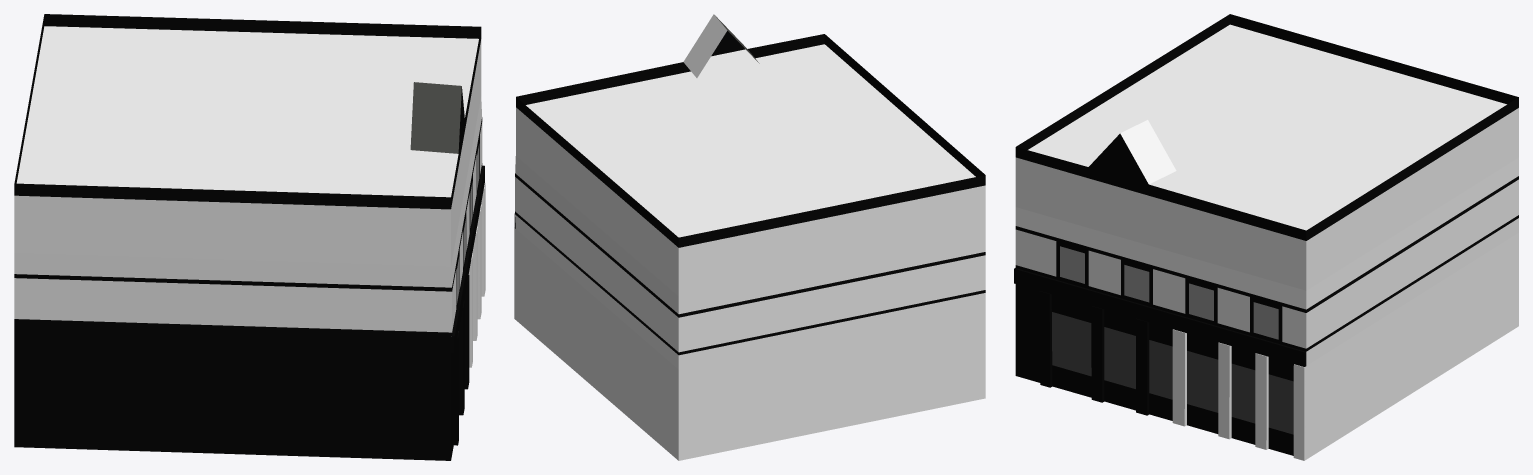
File: The Howard.fbx
3 views of the same model, side by side, from view 1: azimuth 30°, elevation 25°; view 2: azimuth 150°, elevation 25°; view 3: azimuth 270°, elevation 25° (orthographic). The views are drawn at different scales.
Visible parts, largest first — view 1: The Howard; view 2: The Howard; view 3: The Howard.
Boxes of the visible parts, left/top/right/bottom form: The Howard: left=14, top=14, right=485, bottom=460; The Howard: left=514, top=14, right=985, bottom=460; The Howard: left=1014, top=14, right=1518, bottom=460.
Bounding box in the file's own units: 2680 × 1564 × 2625.
